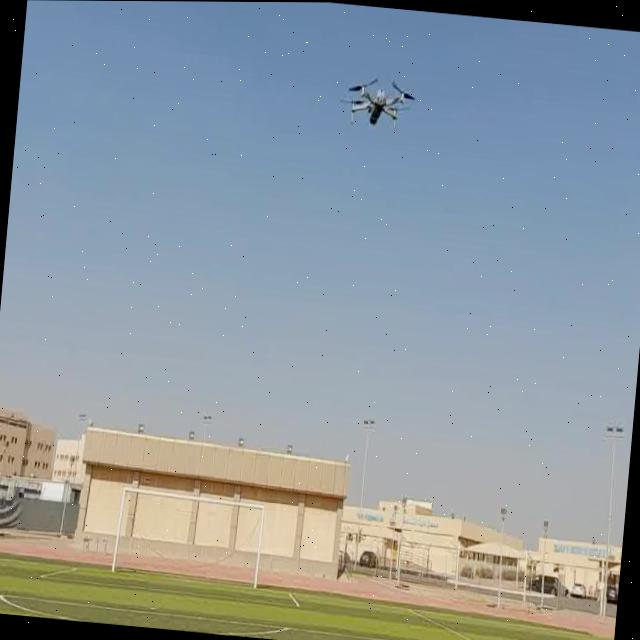drone: (339, 62, 416, 138)
